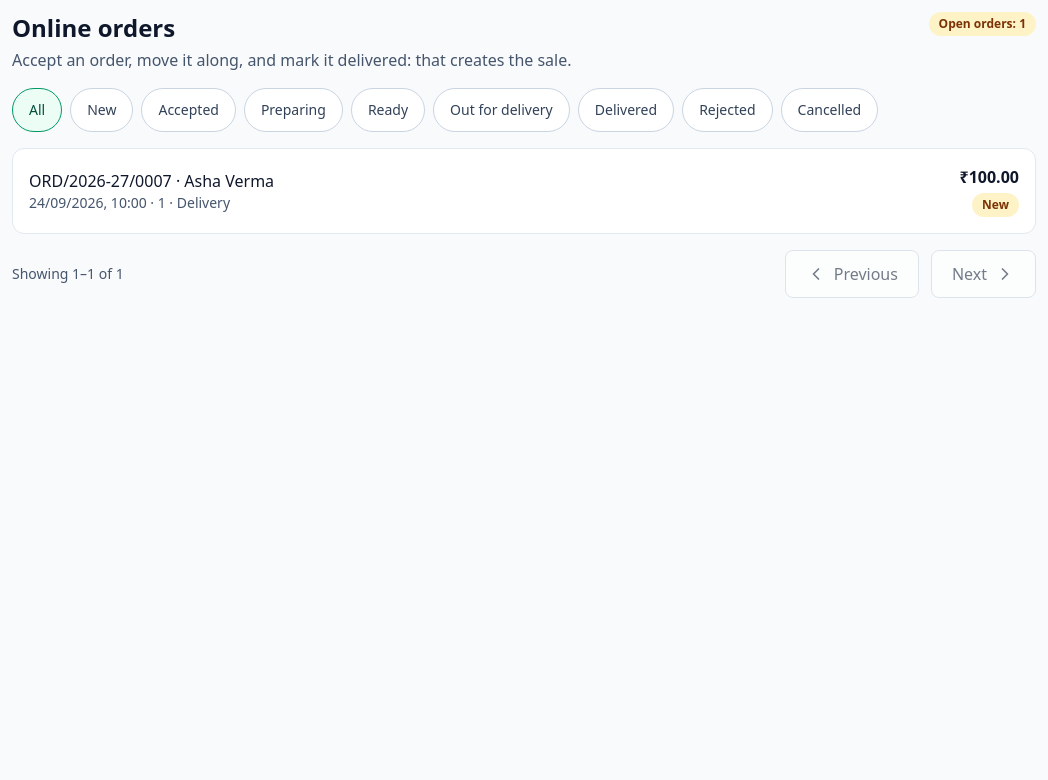
Scenario: shop orders screen › shows the delivered hint and the stock warning
This screenshot has width=1048, height=780.
What coordinates should you click on to do the following:
click the button "ORD/2026-27/0007"
I would click on:
 (100, 181)
Its box is [13,149,1035,233].
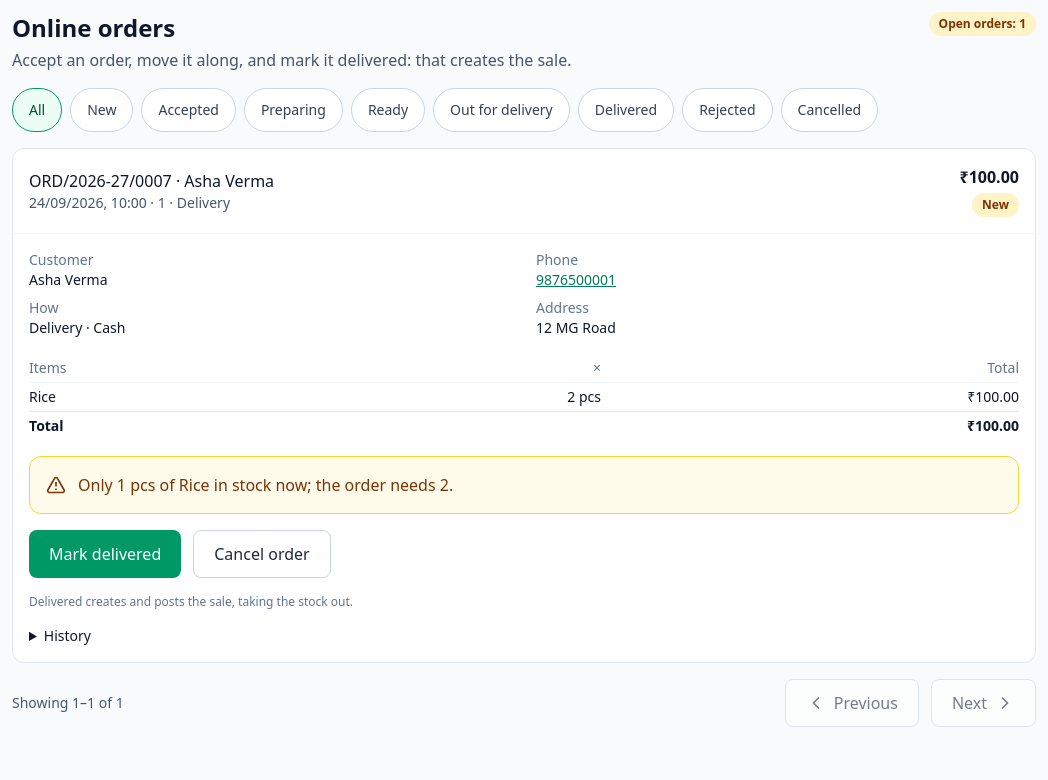
Now the text "Delivered creates and posts the sale, taking the stock out." is shown, box [29,593,353,610]
Now the text "Only 1 pcs of Rice in stock now; the order needs 2." is shown, box [78,474,453,496]
